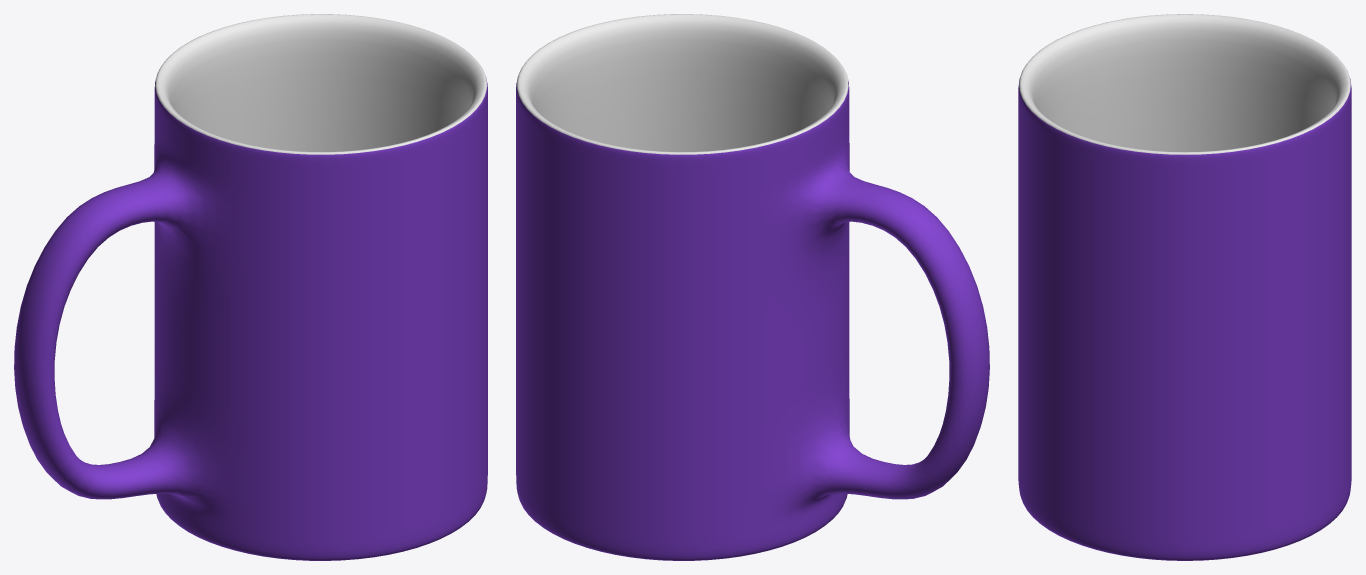
The model's file is MUG.glb.
The picture shows the model from 3 angles, left to right: view 1: azimuth 30°, elevation 25°; view 2: azimuth 150°, elevation 25°; view 3: azimuth 270°, elevation 25°; orthographic projection.
Visible parts, largest first — view 1: Cylinder; view 2: Cylinder; view 3: Cylinder.
Boxes of the visible parts, x1=… form: Cylinder: x1=14, y1=14, x2=487, y2=560; Cylinder: x1=516, y1=14, x2=989, y2=560; Cylinder: x1=1018, y1=14, x2=1351, y2=560.
Bounding box in the file's own units: 2.2 × 1.93 × 1.43.
